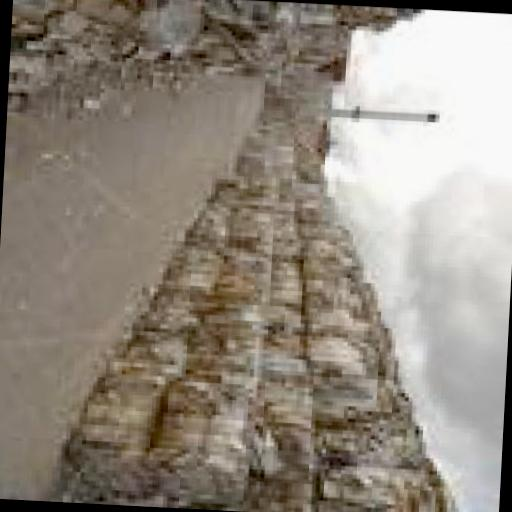cardboard: (13, 0, 213, 96), (66, 366, 180, 507), (160, 380, 262, 505), (195, 425, 325, 512), (317, 455, 465, 512), (142, 18, 256, 88), (321, 408, 432, 470), (209, 1, 293, 82), (320, 371, 414, 416), (306, 336, 404, 376), (122, 324, 196, 376), (272, 65, 338, 116), (258, 380, 322, 431), (302, 26, 352, 89), (190, 342, 263, 384), (236, 147, 302, 190), (312, 300, 386, 338), (222, 254, 276, 305), (144, 294, 210, 334), (170, 248, 224, 294), (262, 346, 320, 388), (266, 305, 314, 355), (310, 275, 378, 310), (204, 305, 270, 340), (232, 210, 278, 258), (348, 8, 426, 36), (192, 208, 234, 250), (274, 265, 312, 311), (250, 124, 302, 154), (311, 250, 364, 278), (234, 186, 280, 218), (292, 6, 345, 32), (304, 234, 356, 254), (306, 218, 358, 238), (279, 242, 309, 268), (302, 202, 338, 220), (296, 186, 332, 200), (282, 206, 302, 230), (280, 226, 305, 242), (219, 190, 239, 210), (287, 197, 295, 210)
